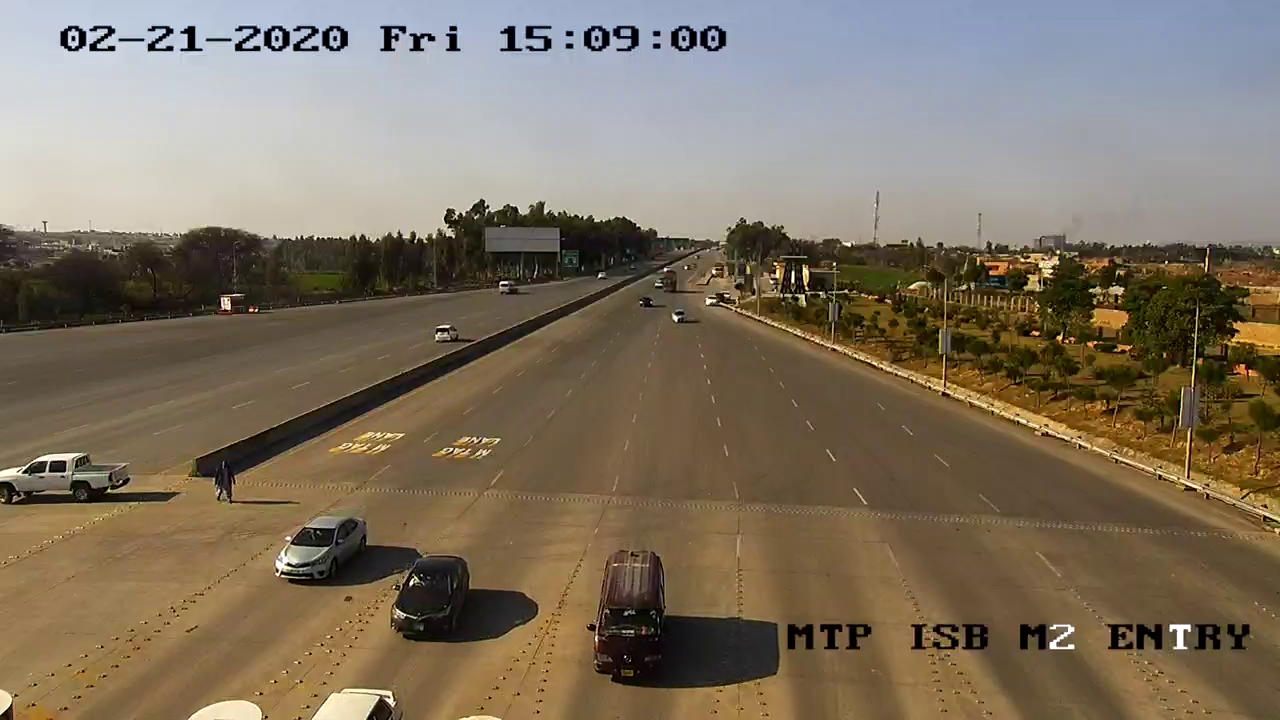f1: (377, 548, 489, 658), (266, 494, 375, 595)
f2: (582, 541, 680, 697)
